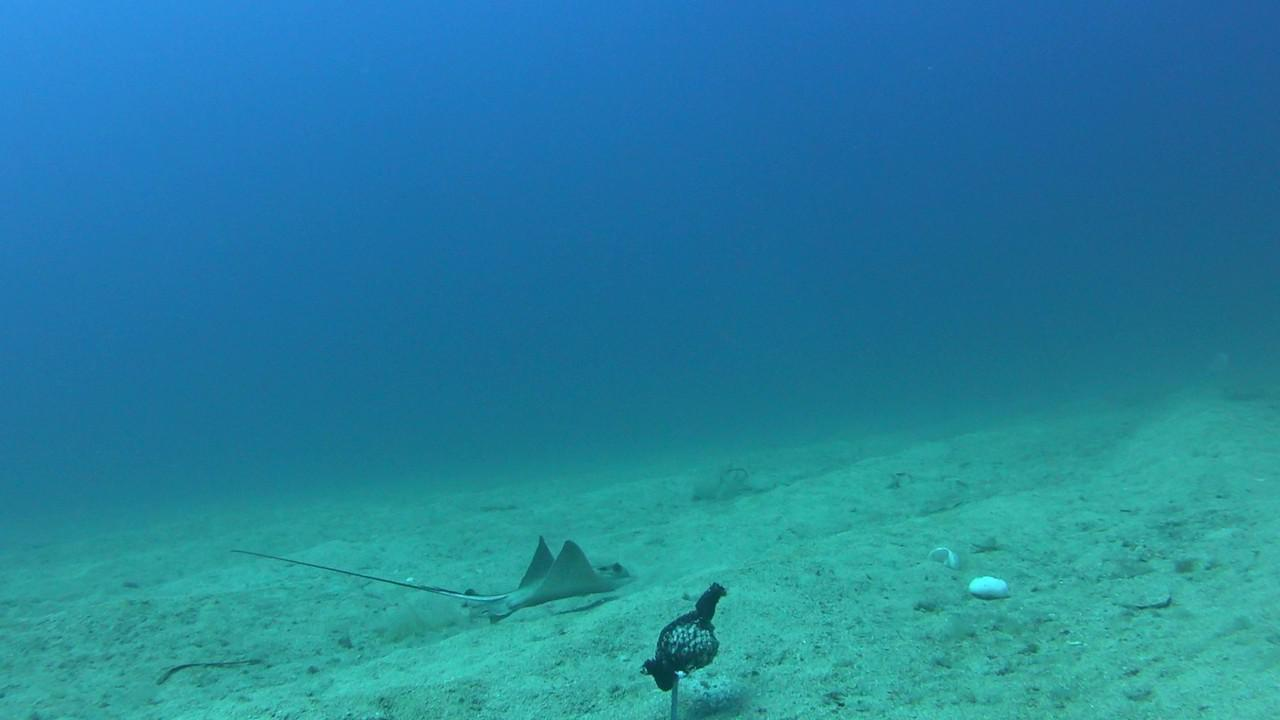myliobatis: (227, 525, 642, 632)
